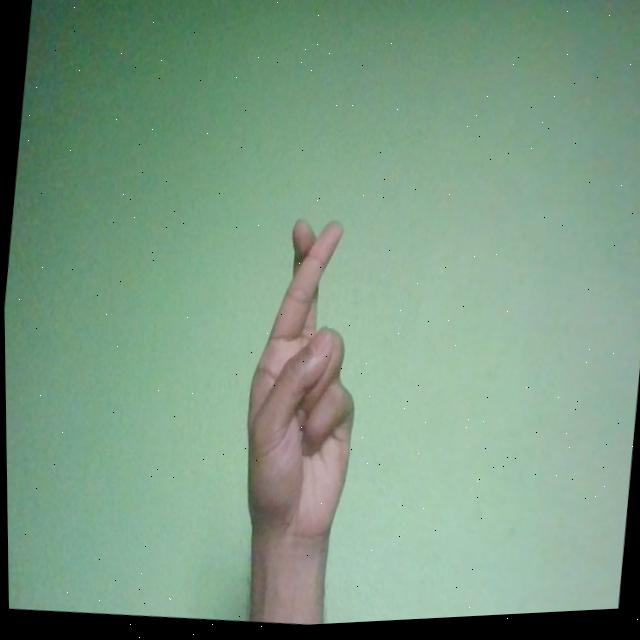Good Luck: (231, 217, 375, 557)
